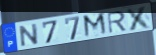7: (41, 19, 60, 45), (64, 15, 82, 42)
M: (82, 11, 109, 39)
N: (19, 22, 40, 48)
R: (106, 10, 128, 35)
X: (125, 4, 153, 32)
